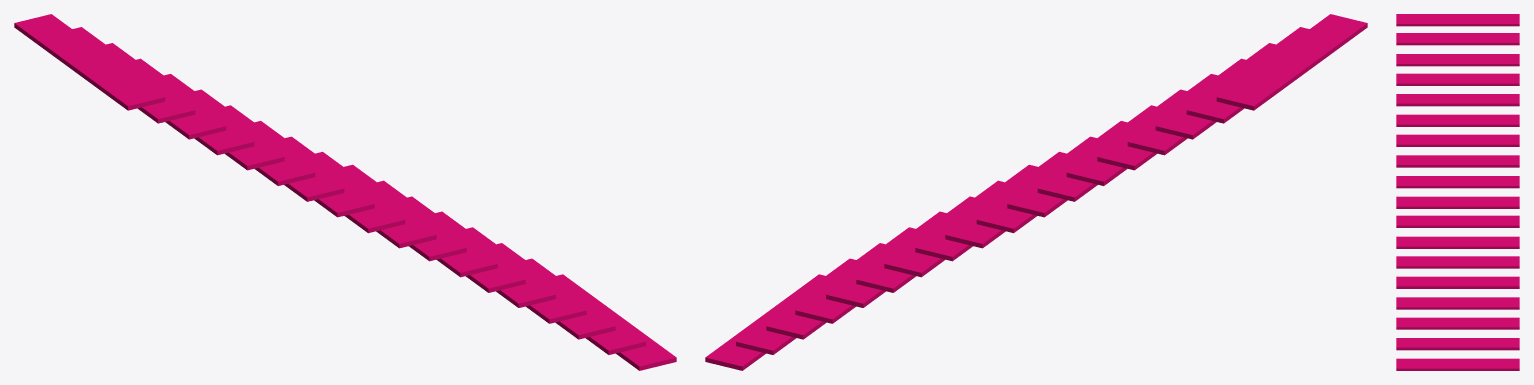
Rendered from Metal_Stairs_04.fbx.
The picture shows the model from 3 angles, left to right: view 1: azimuth 30°, elevation 25°; view 2: azimuth 150°, elevation 25°; view 3: azimuth 270°, elevation 25°; orthographic projection. The views are drawn at different scales.
Visible parts, largest first — view 1: Metal_Stairs_04; view 2: Metal_Stairs_04; view 3: Metal_Stairs_04.
Boxes of the visible parts, x1=… form: Metal_Stairs_04: x1=14, y1=14, x2=676, y2=370; Metal_Stairs_04: x1=705, y1=14, x2=1367, y2=370; Metal_Stairs_04: x1=1396, y1=14, x2=1519, y2=370.
Bounding box in the file's own units: 417 × 283 × 150.
